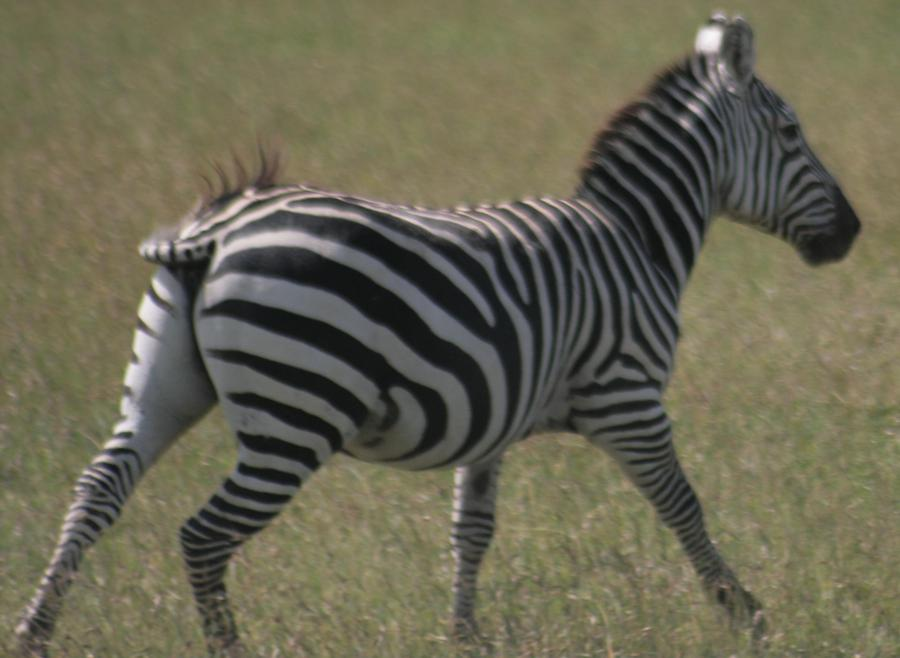zebra_plains: (220, 179, 647, 466)
